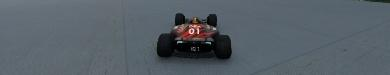Car: (156, 12, 231, 59)
